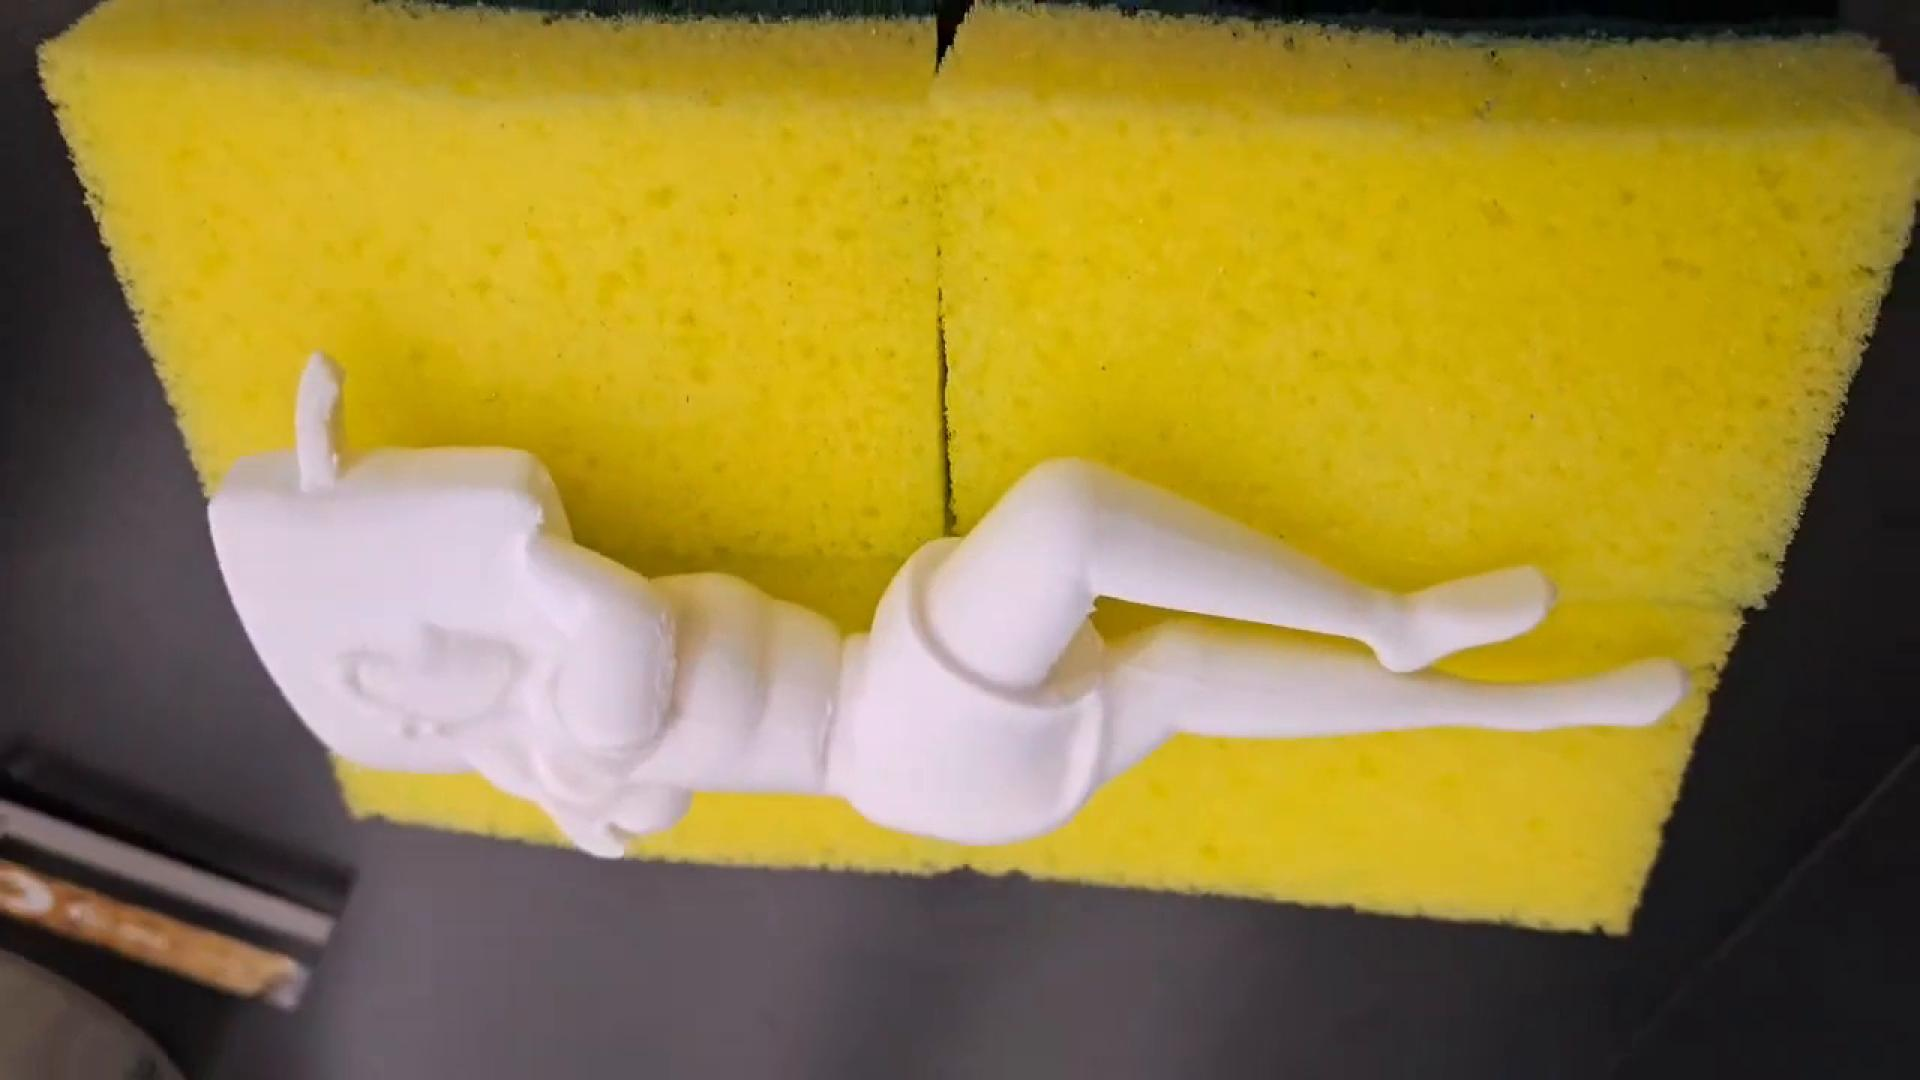Good-style: (210, 355, 1689, 864)
